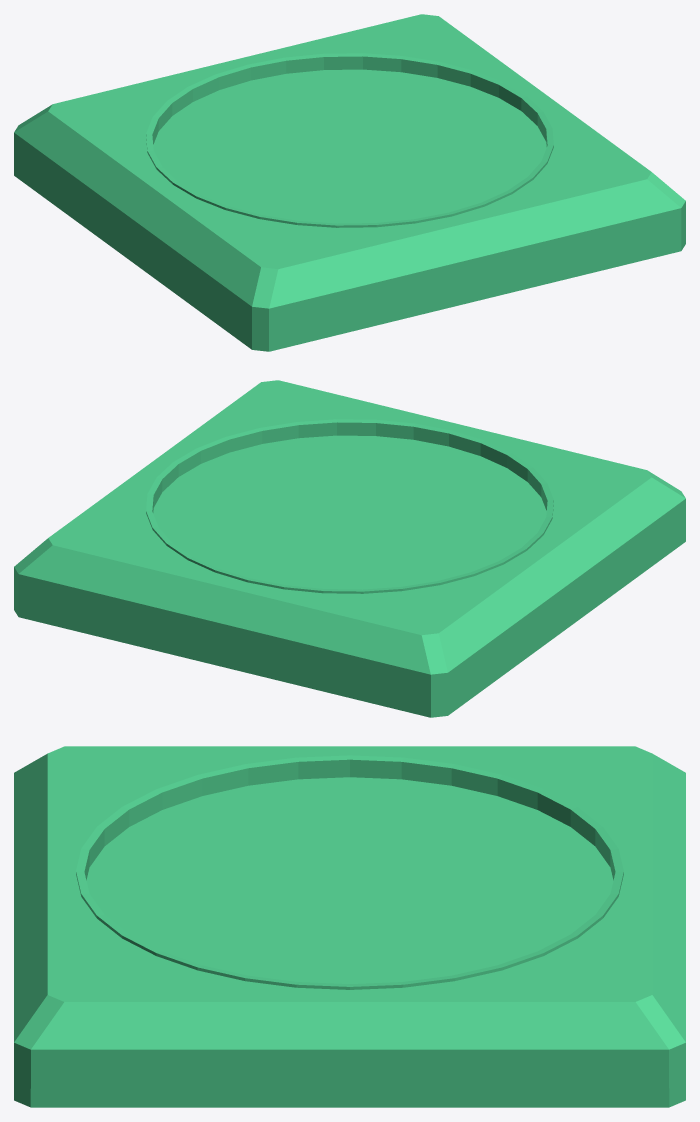
Rendered from tile.glb.
3 views of the same model, one above another, from view 1: azimuth 30°, elevation 25°; view 2: azimuth 150°, elevation 25°; view 3: azimuth 270°, elevation 25° (orthographic). The views are drawn at different scales.
Visible parts, largest first — view 1: tile; view 2: tile; view 3: tile.
Part boxes in pixels (bbox=[...]): tile: bbox=[14, 14, 685, 351]; tile: bbox=[14, 380, 685, 717]; tile: bbox=[14, 746, 685, 1107].
Bounding box in the file's own units: 2 × 0.31 × 2.
